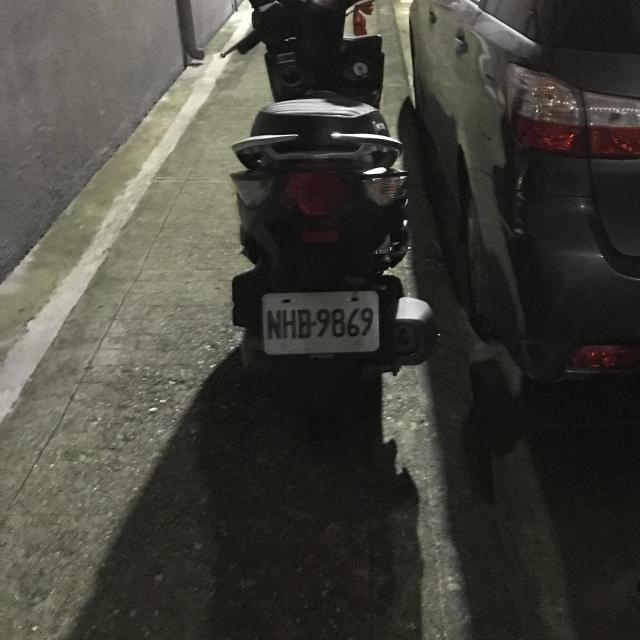W: (256, 283, 385, 359)
